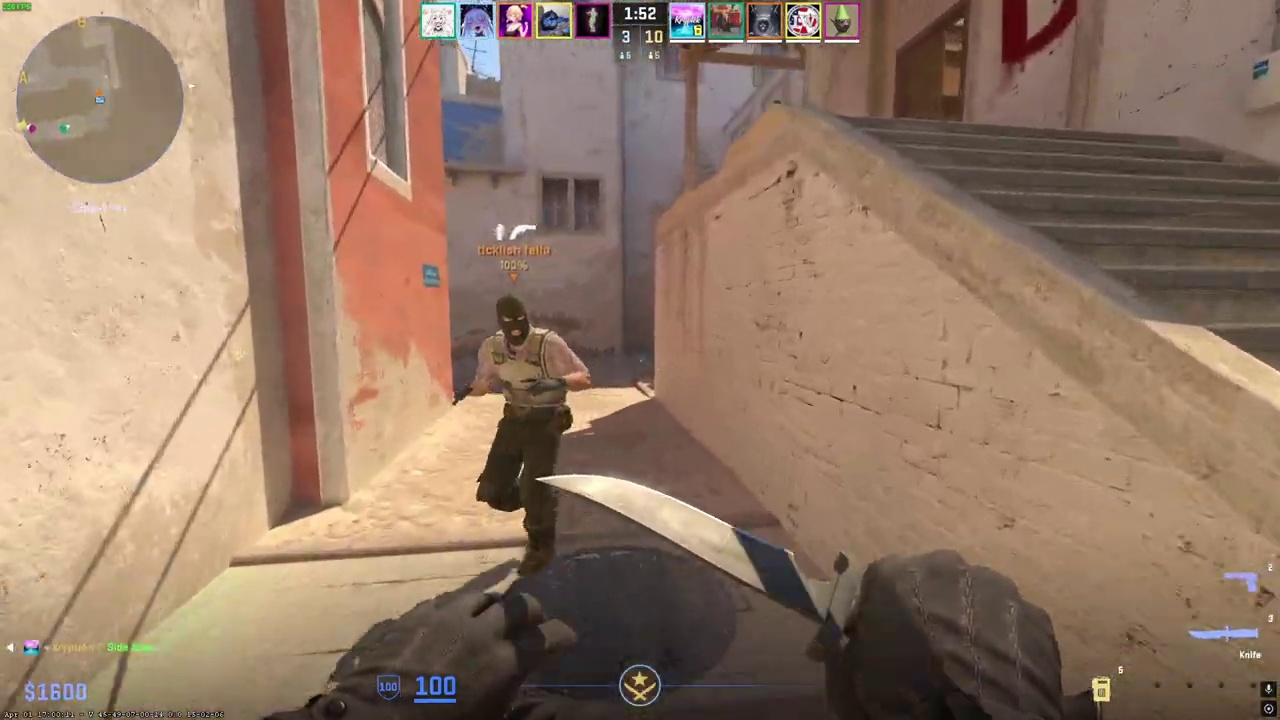Terrorist: (466, 293, 583, 574)
